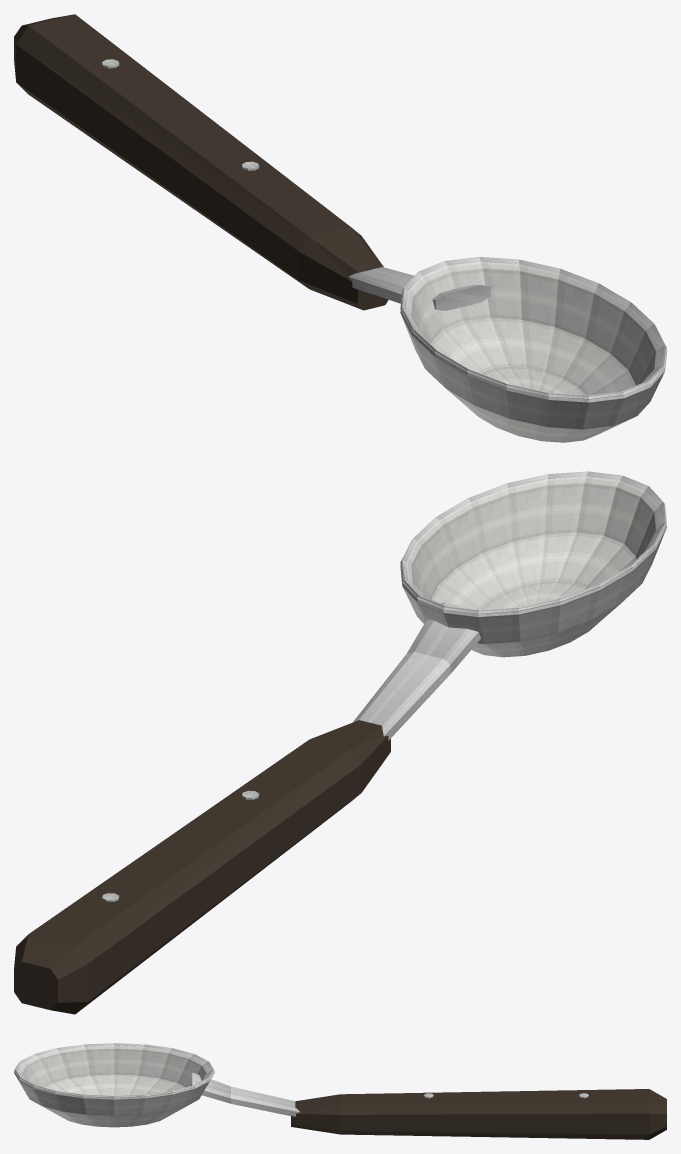
Rendered from spoon.glb.
The picture shows the model from 3 angles, top to bottom: view 1: azimuth 30°, elevation 25°; view 2: azimuth 150°, elevation 25°; view 3: azimuth 270°, elevation 25°; orthographic projection. The views are drawn at different scales.
Parts seen in each view (by area): view 1: home_spoon; view 2: home_spoon; view 3: home_spoon.
Boxes of the visible parts, bbox=[...] form: home_spoon: bbox=[14, 14, 666, 442]; home_spoon: bbox=[14, 471, 666, 1014]; home_spoon: bbox=[14, 1043, 666, 1139].
Size of the model in its own units: 0.036 by 0.02 by 0.185.
Materials: 1 (1 with a texture image).
